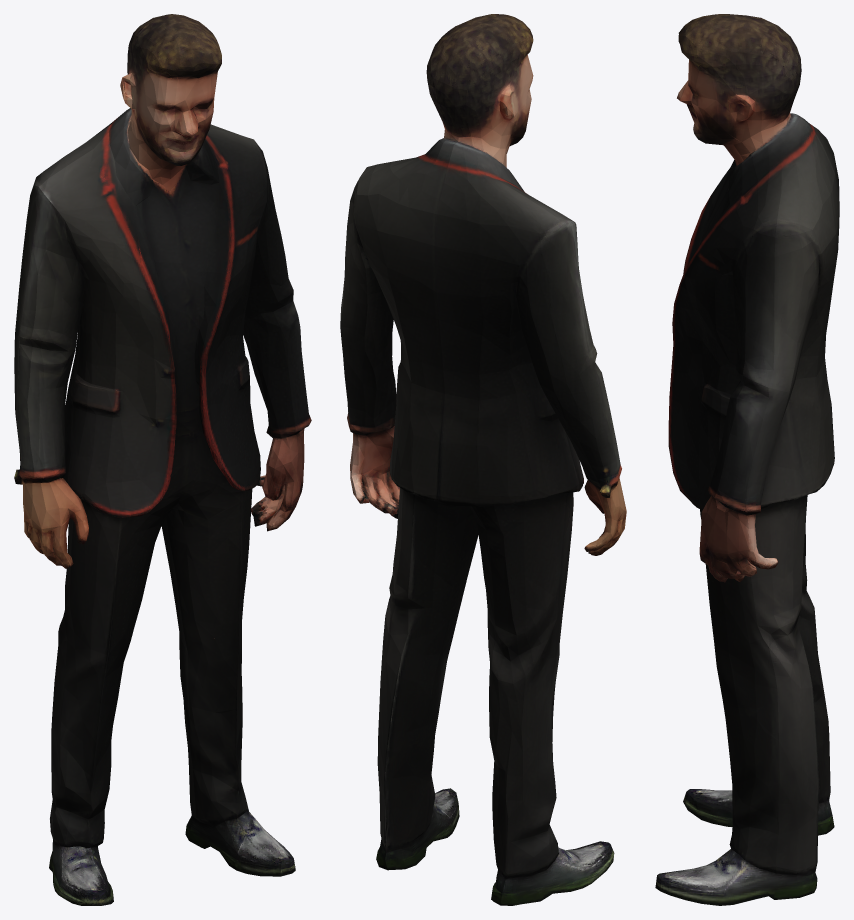
The model's file is ravi-rosto.glb.
The picture shows the model from 3 angles, left to right: view 1: azimuth 30°, elevation 25°; view 2: azimuth 150°, elevation 25°; view 3: azimuth 270°, elevation 25°; orthographic projection. The views are drawn at different scales.
Parts seen in each view (by area): view 1: world; view 2: world; view 3: world.
Boxes of the visible parts, <box> form: world: <box>14,14,311,905</box>; world: <box>340,14,626,905</box>; world: <box>655,14,839,905</box>.
Bounding box in the file's own units: 0.3449 × 0.9996 × 0.198.
Materials: 1 (1 with a texture image).
